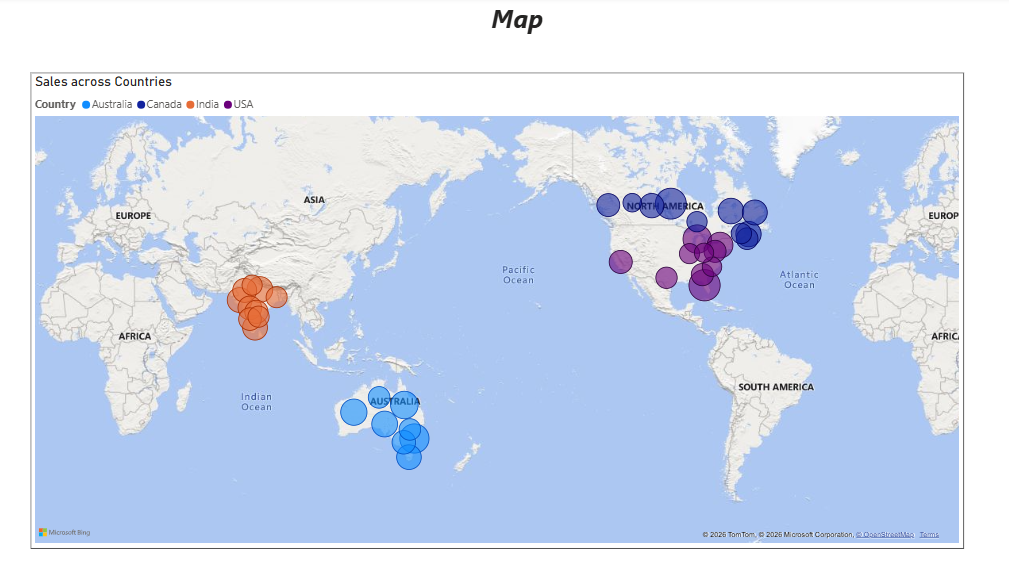

Layout of this report page (visuals, bound fields, positions):
{"tool":"powerbi","page":{"name":"Map","canvas":[1280,720],"ordinal":1},"visuals":[{"type":"textbox","box":[504,0,312,72],"z":0},{"type":"map","title":"Sales across Countries","fields":{"Category":["Customer_Info.State"],"Series":["Customer_Info.Country"],"Size":["Sum(Sales_Transactions.Sales Price)"]},"box":[48,96,1176,600],"z":1}]}

Visuals, with their boxes in screenshot pixels (x1, y1, x2, y2), scaled from the page's 1280x720 canvas onto the 1009x561 screenshot:
textbox: box(397, 0, 643, 56)
"Sales across Countries" map: box(38, 75, 965, 542)
